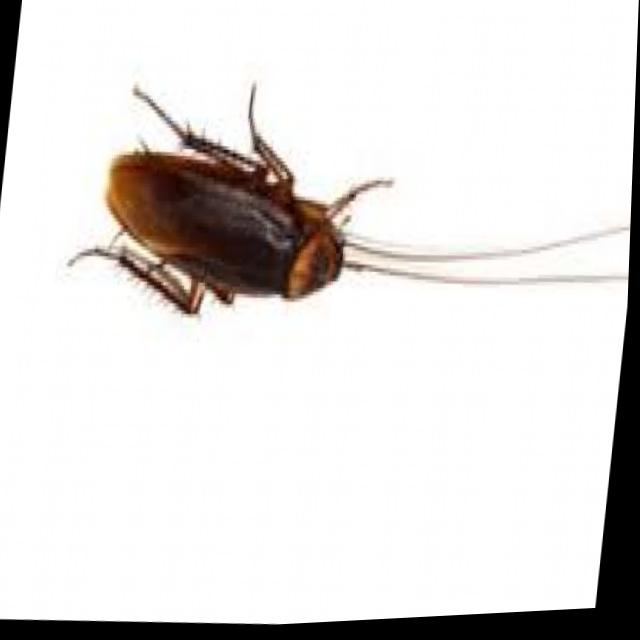Cockroach: (52, 18, 639, 374)
